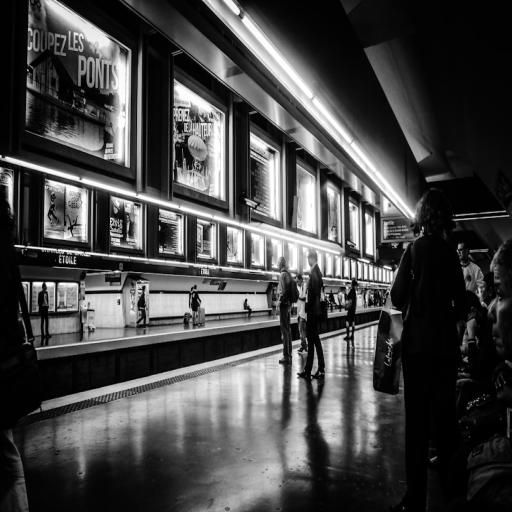face: (488, 266, 511, 358)
